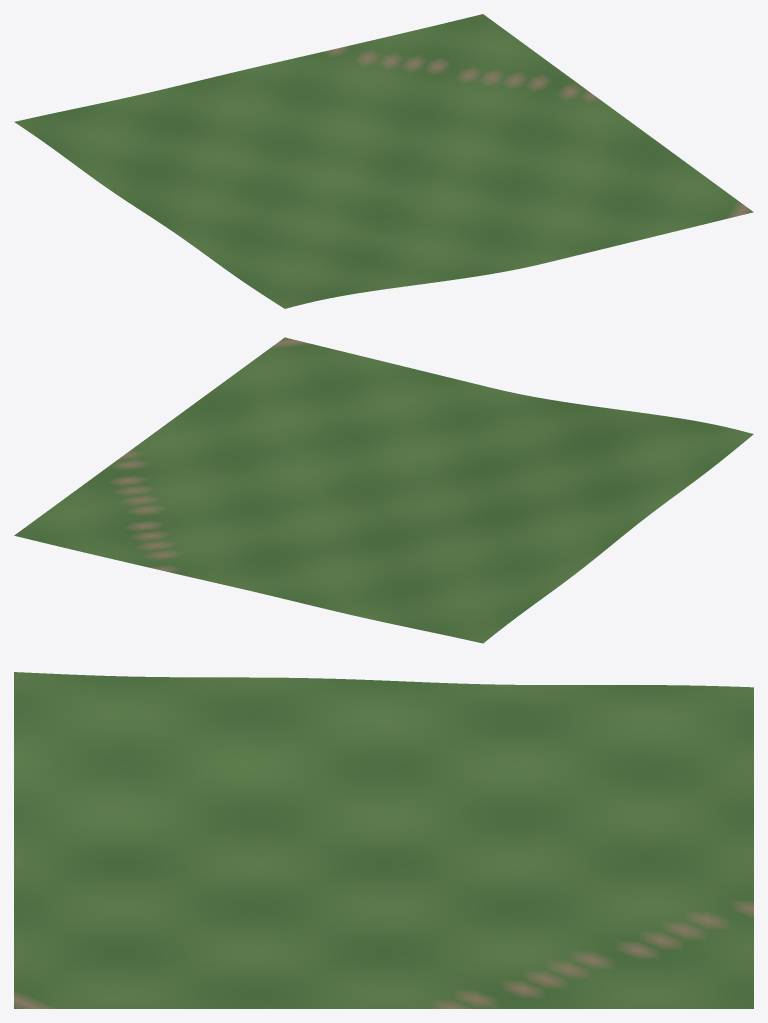
Rendered from chunk_7_5.glb.
The picture shows the model from 3 angles, top to bottom: view 1: azimuth 30°, elevation 25°; view 2: azimuth 150°, elevation 25°; view 3: azimuth 270°, elevation 25°; orthographic projection. The views are drawn at different scales.
Size of the model in its own units: 512 by 18.78 by 512.
